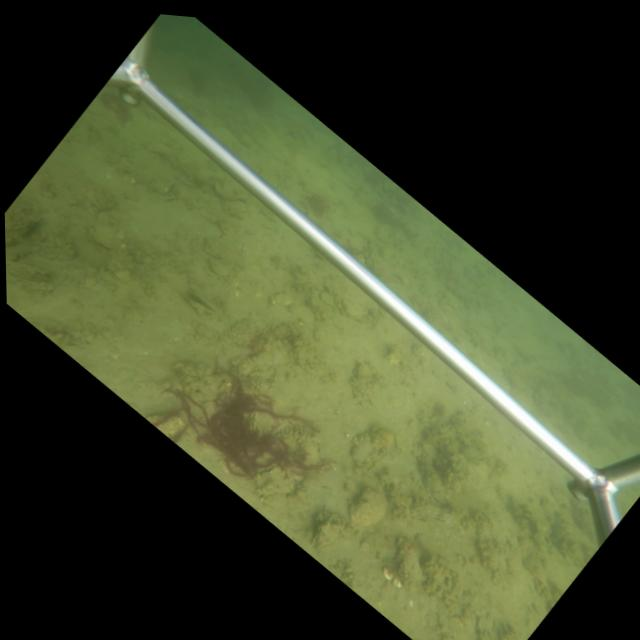Oyster-Closed: (308, 519, 344, 554)
Oyster-Indeterminate: (84, 221, 125, 256)
Oyster-Open: (183, 286, 222, 320)
